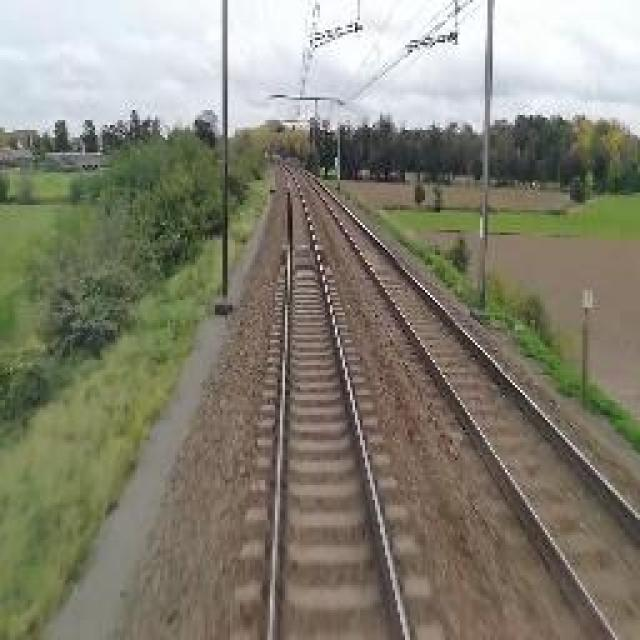rail: (232, 158, 452, 638)
